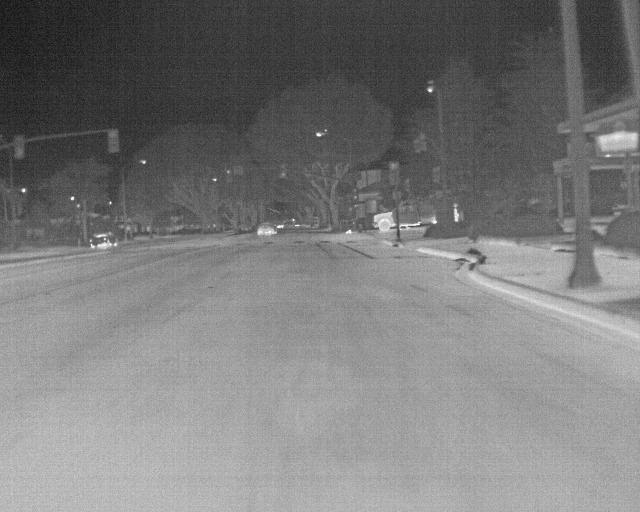car: (374, 198, 463, 231), (90, 232, 118, 249), (257, 222, 277, 235), (277, 224, 284, 228)
light: (108, 131, 118, 152), (15, 136, 24, 158), (418, 133, 425, 150), (281, 163, 287, 177), (413, 140, 419, 153), (433, 168, 438, 182), (226, 170, 231, 182), (353, 189, 358, 199), (436, 191, 441, 198)
sign: (343, 173, 361, 179), (232, 166, 243, 175)
